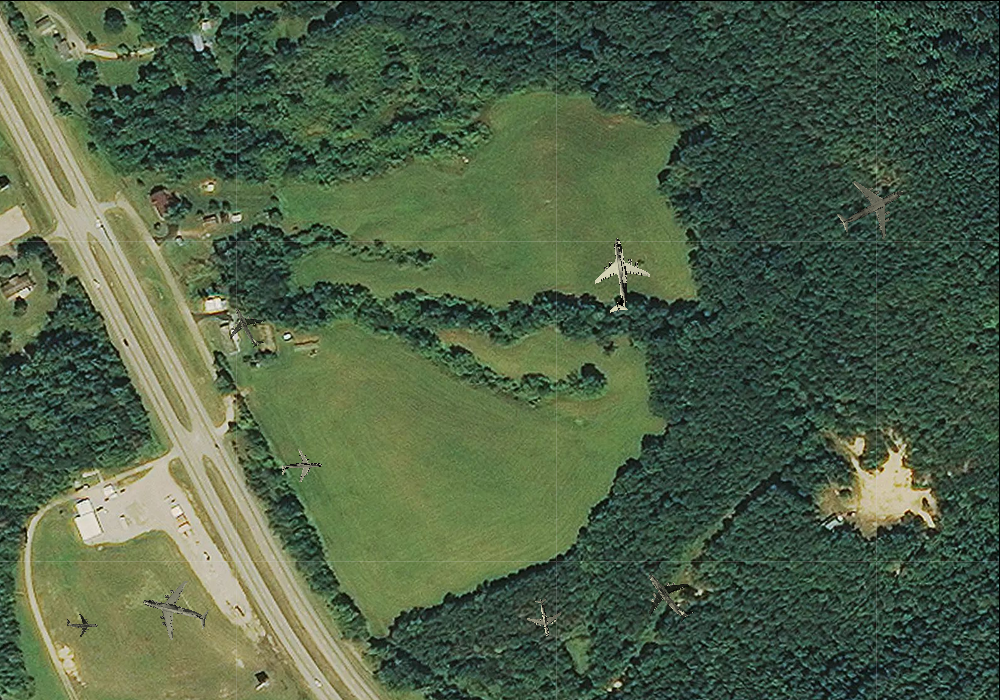plane: (825, 161, 918, 253), (134, 571, 215, 650), (580, 233, 657, 316), (629, 556, 708, 636), (217, 297, 275, 356), (523, 596, 565, 640), (280, 447, 322, 486), (65, 610, 97, 638)
